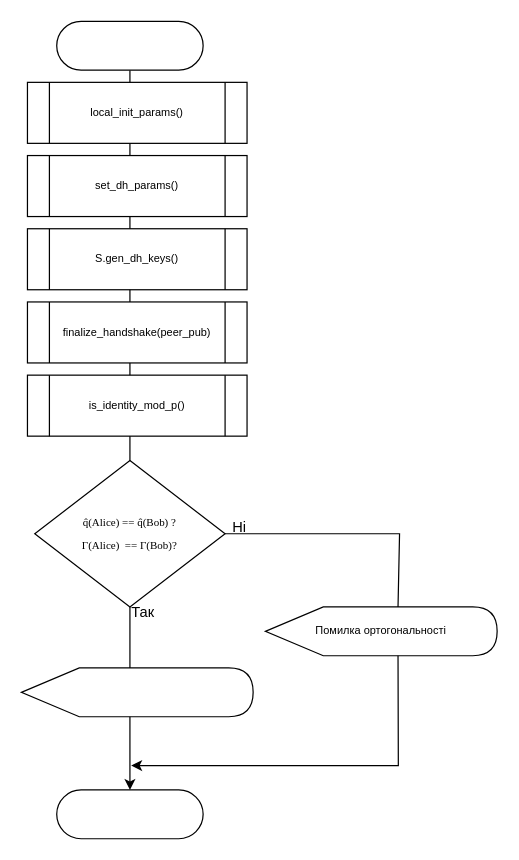
Image size: 519x860. Some labels were removed from this diagram. The shapes that lost their labels are listed below. From the top down, each one's centre as x and y in pixels, then its label:
At (x=129, y=45): "Початок".
At (x=136, y=692): "Вивід матриці".
At (x=129, y=814): "Кінець".
